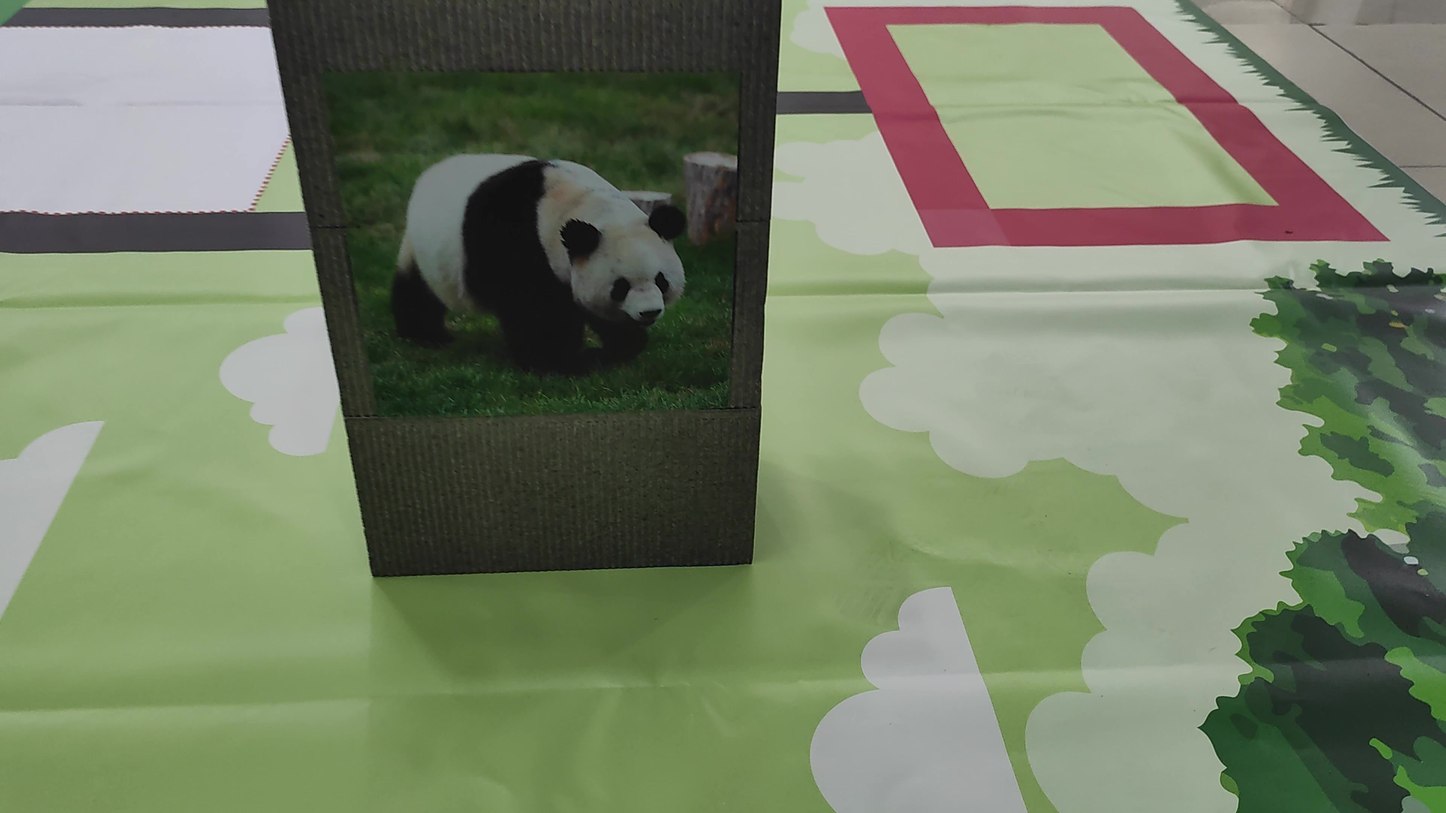panda: (363, 126, 710, 361)
